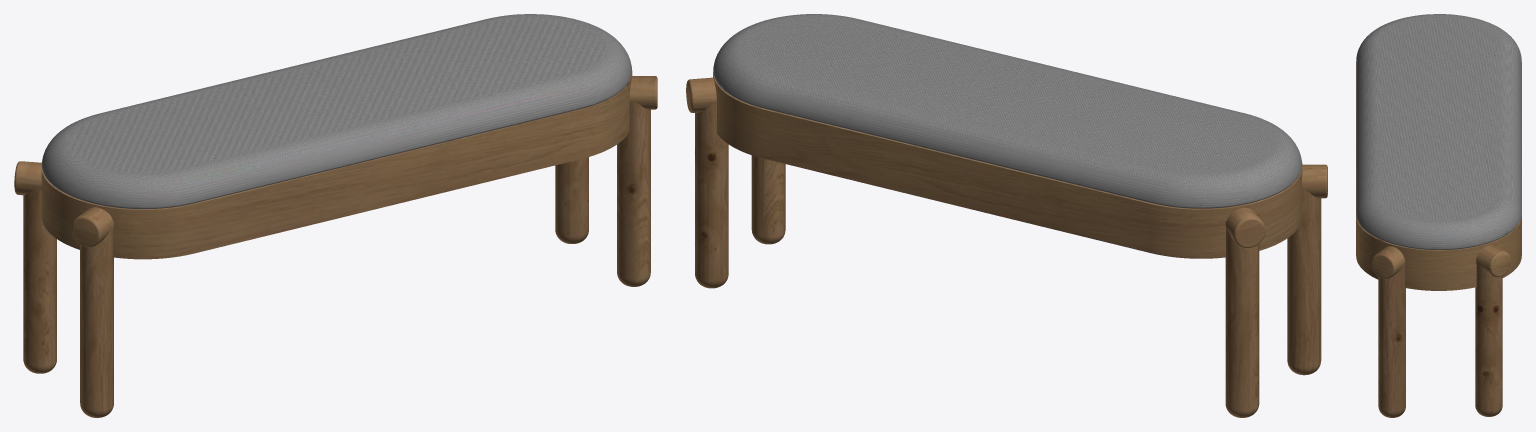
File: bench-lite.glb
The picture shows the model from 3 angles, left to right: view 1: azimuth 30°, elevation 25°; view 2: azimuth 150°, elevation 25°; view 3: azimuth 270°, elevation 25°; orthographic projection. The views are drawn at different scales.
Parts seen in each view (by area): view 1: Object_5; view 2: Object_5; view 3: Object_5.
Part boxes in pixels (x1=…): Object_5: x1=14, y1=14, x2=657, y2=417; Object_5: x1=686, y1=14, x2=1327, y2=417; Object_5: x1=1356, y1=14, x2=1521, y2=417.
Bounding box in the file's own units: 1.27 × 0.4826 × 0.381.
1 material, 1 textured.
